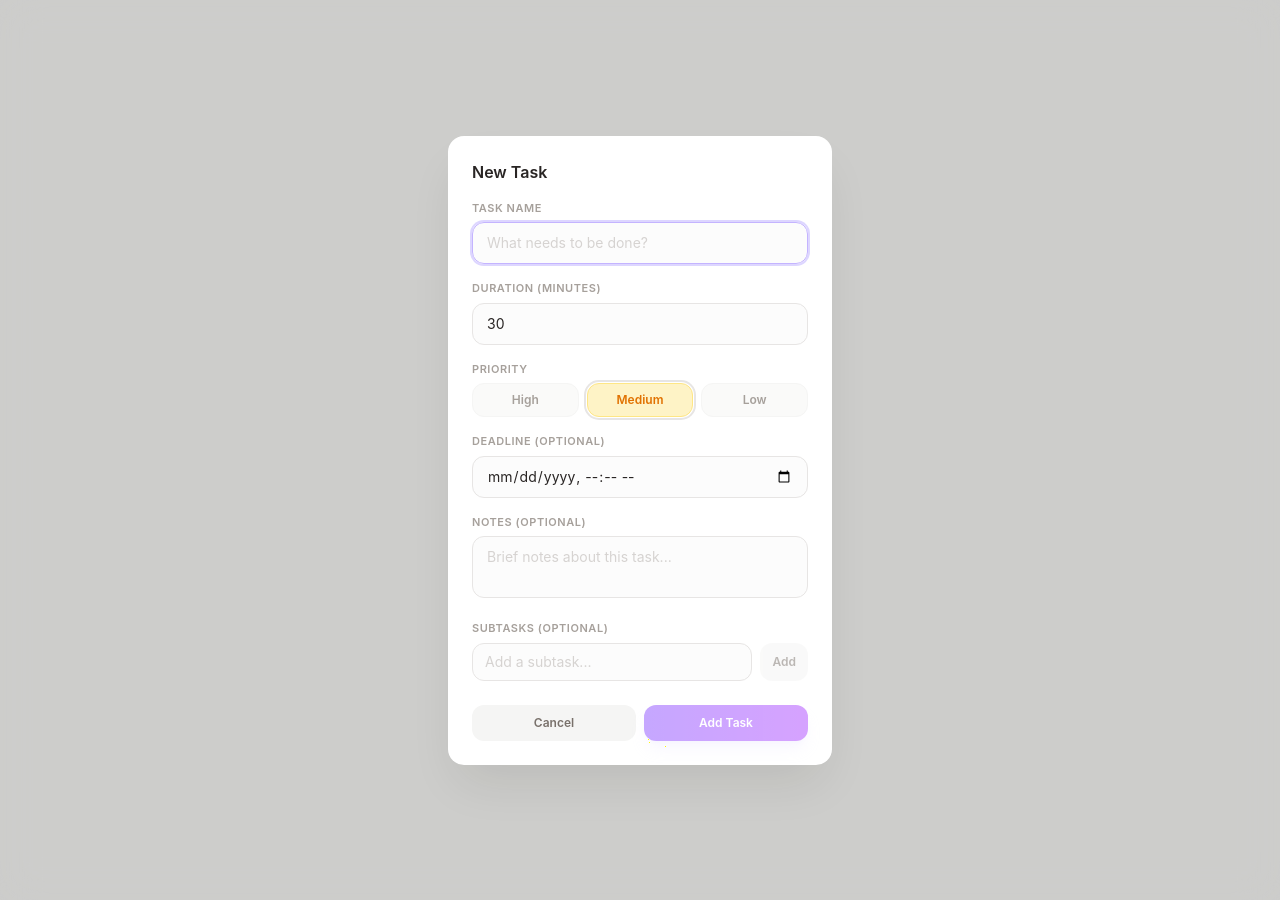
Test case: AddTaskModal › can add a subtask via Add button
The width and height of the screenshot is (1280, 900).
Type "Subtask one" into the field with placeholder "Add a subtask..." at (612, 662), box [472,642,752,680]
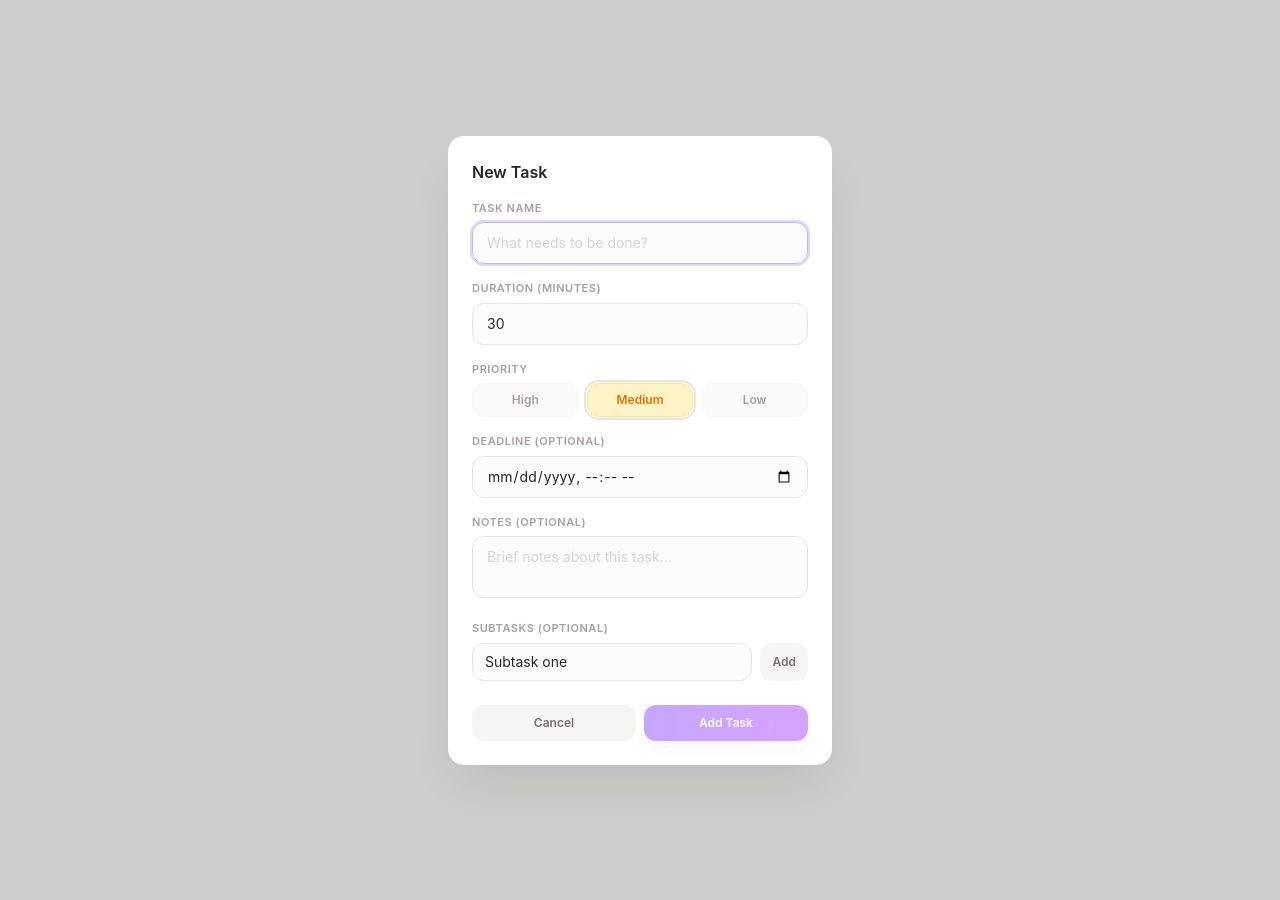
Click the button "Add" at (784, 662), box [760,642,808,680]
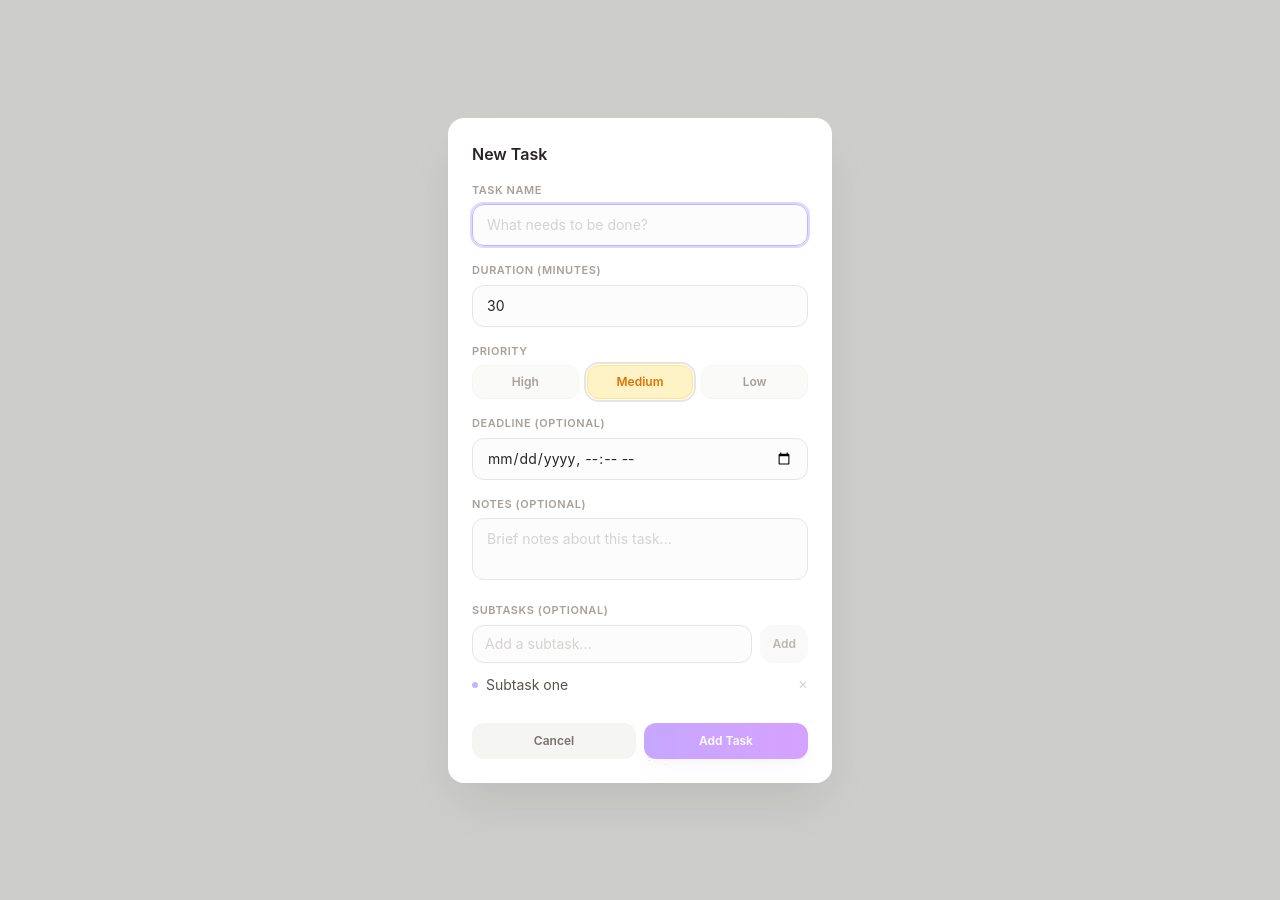
Check: the text "Subtask one" is shown, box [486,676,568,692]
